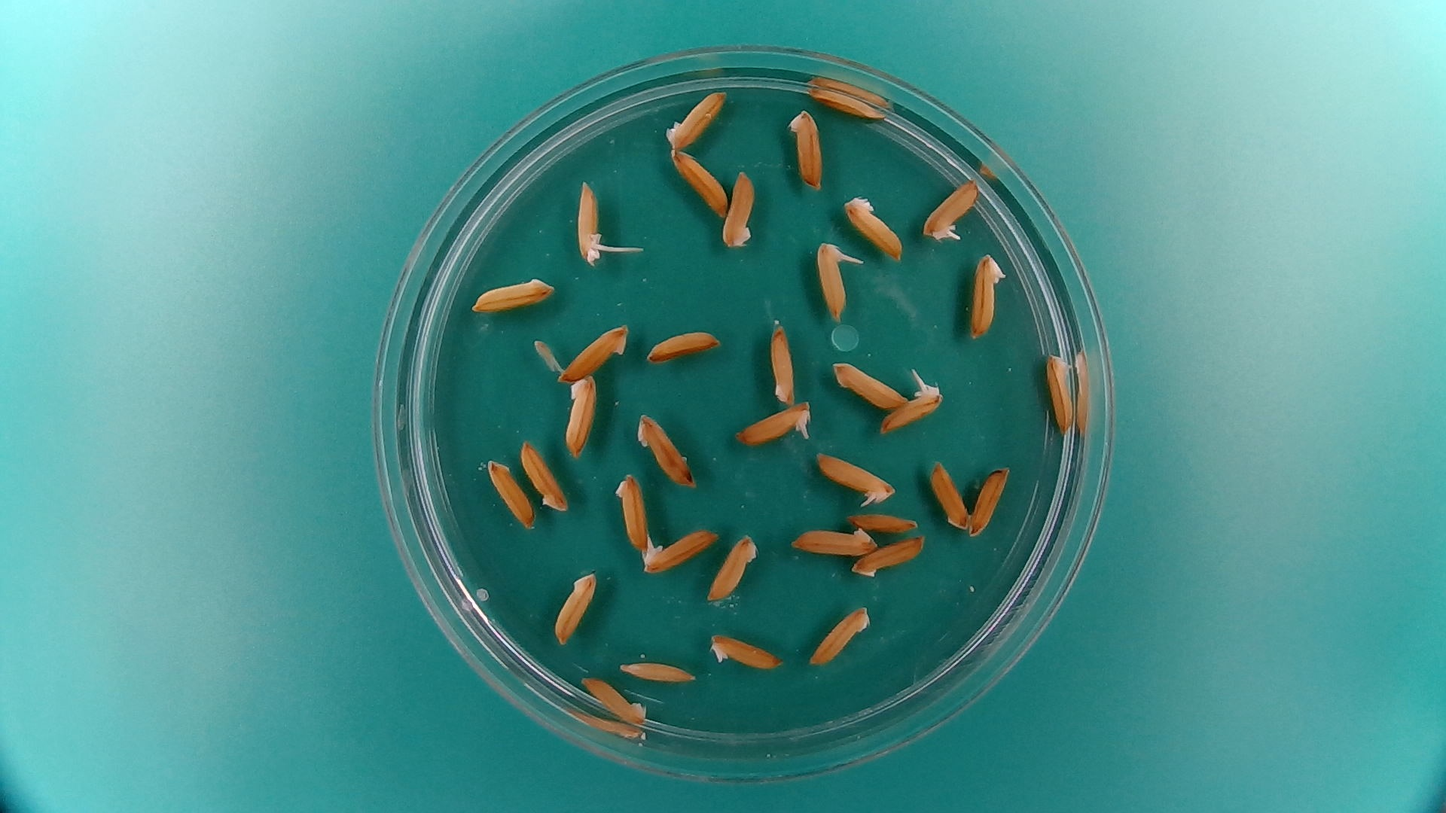no: (634, 411, 696, 489), (553, 321, 630, 382), (841, 192, 906, 262), (831, 356, 911, 410), (665, 85, 730, 150), (670, 148, 731, 215), (807, 604, 873, 665), (706, 530, 761, 603), (518, 437, 571, 511), (577, 673, 651, 725), (786, 105, 828, 193), (551, 567, 597, 646), (469, 275, 557, 316), (610, 469, 651, 556), (486, 458, 535, 530), (787, 522, 882, 558), (969, 251, 1007, 341), (707, 630, 786, 672), (968, 463, 1011, 540), (852, 534, 928, 577), (720, 166, 758, 251), (643, 324, 722, 364), (563, 371, 599, 456), (928, 456, 969, 530), (803, 84, 889, 119), (1045, 349, 1076, 435), (768, 320, 798, 406), (615, 657, 698, 685), (847, 511, 919, 532)
yes: (811, 446, 897, 505), (639, 523, 723, 577), (731, 398, 816, 448), (923, 175, 981, 241), (878, 379, 943, 434), (813, 236, 853, 322), (572, 179, 602, 266)
